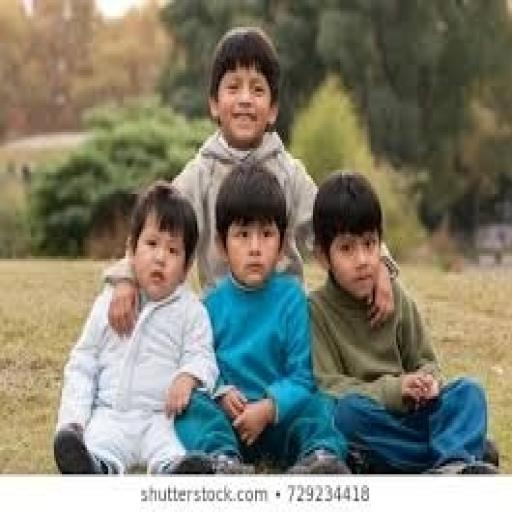sitting: (50, 22, 498, 474), (306, 167, 500, 474), (52, 178, 222, 474)
